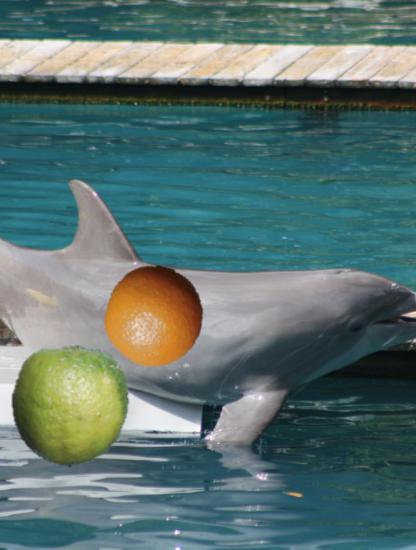Limes: (9, 344, 132, 467)
Orange: (104, 266, 205, 367)
